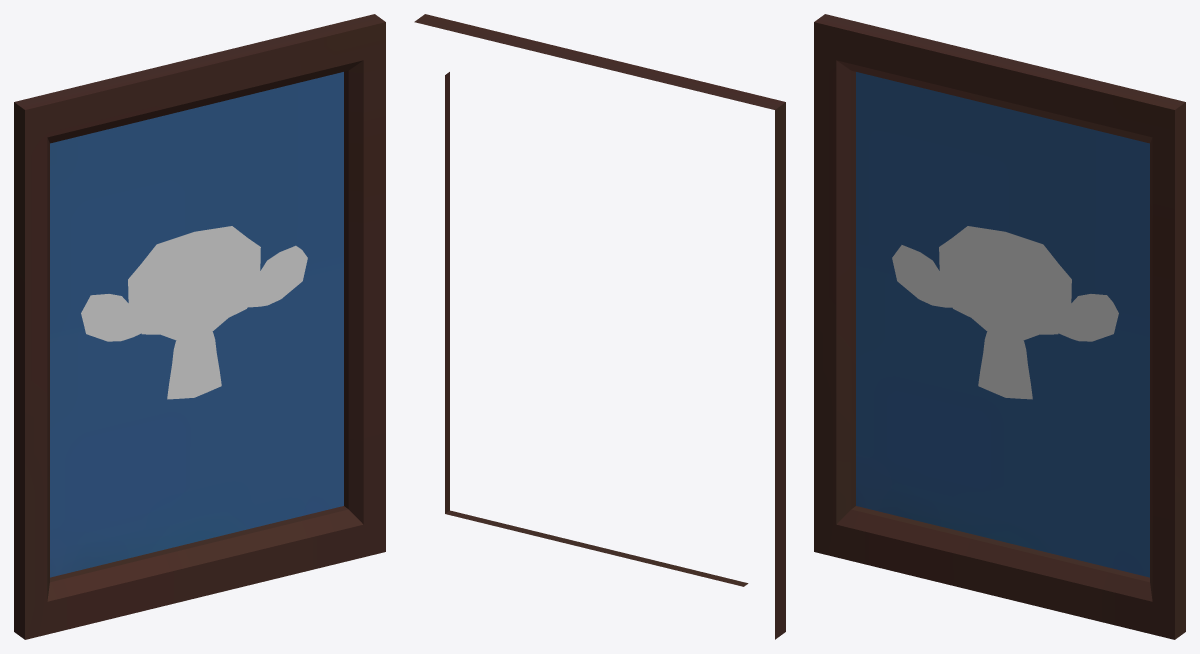
Rendered from picture_frame.glb.
The picture shows the model from 3 angles, left to right: view 1: azimuth 30°, elevation 25°; view 2: azimuth 150°, elevation 25°; view 3: azimuth 330°, elevation 25°; orthographic projection.
Parts seen in each view (by area): view 1: Painting; view 2: Painting; view 3: Painting.
Part boxes in pixels (x1,y1,x2,y2): Painting: (14,14,385,639); Painting: (414,14,785,639); Painting: (814,14,1185,639).
Bounding box in the file's own units: 0.3563 × 0.5 × 0.0189.
Materials: 1 (1 with a texture image).
